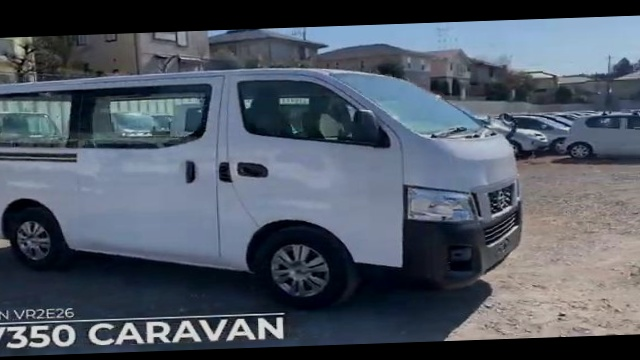van: (0, 60, 527, 315)
